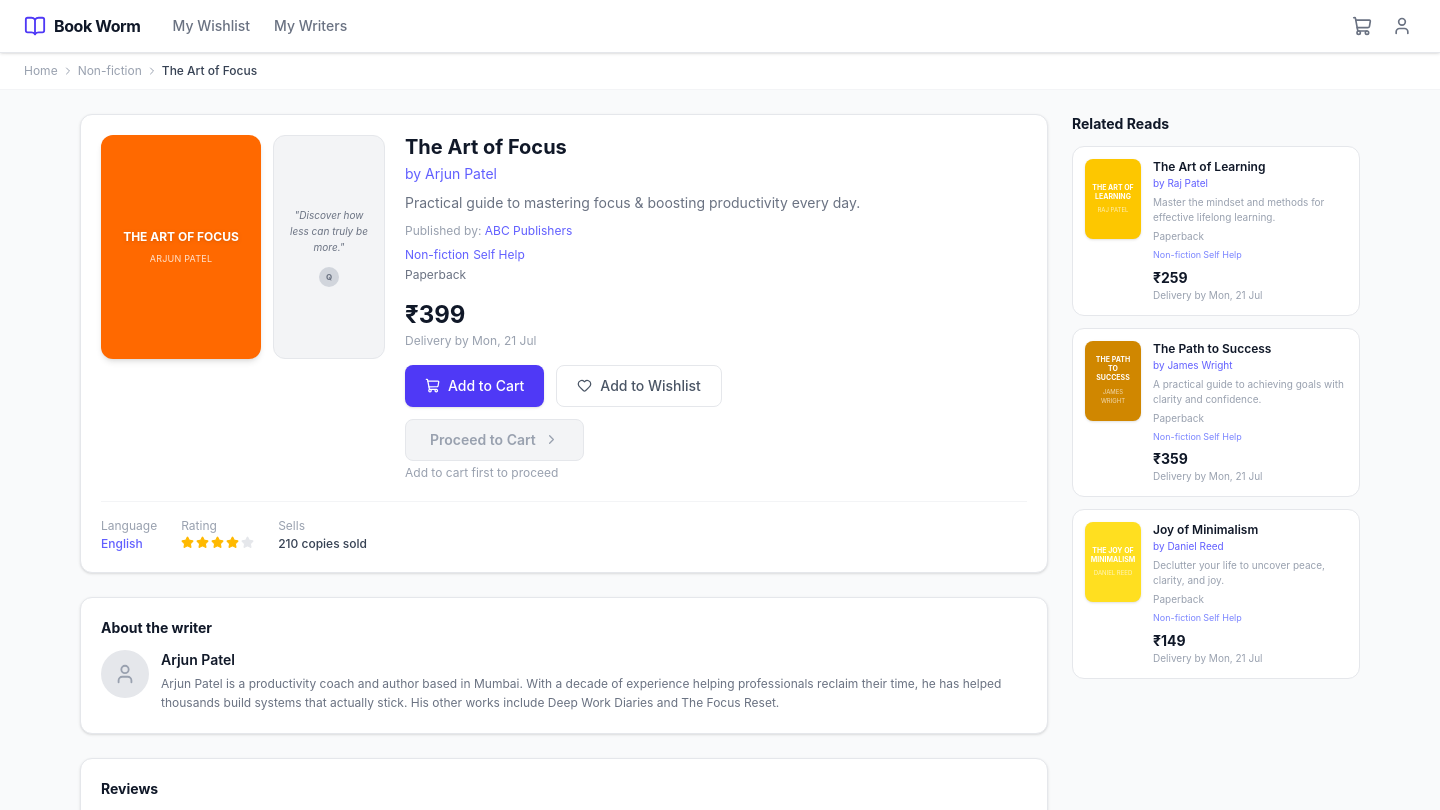
ProductDetailPage › shows validation error when attempting to proceed to cart without adding item
Click the button "Proceed to Cart".
click(494, 440)  # box [405,419,584,461]
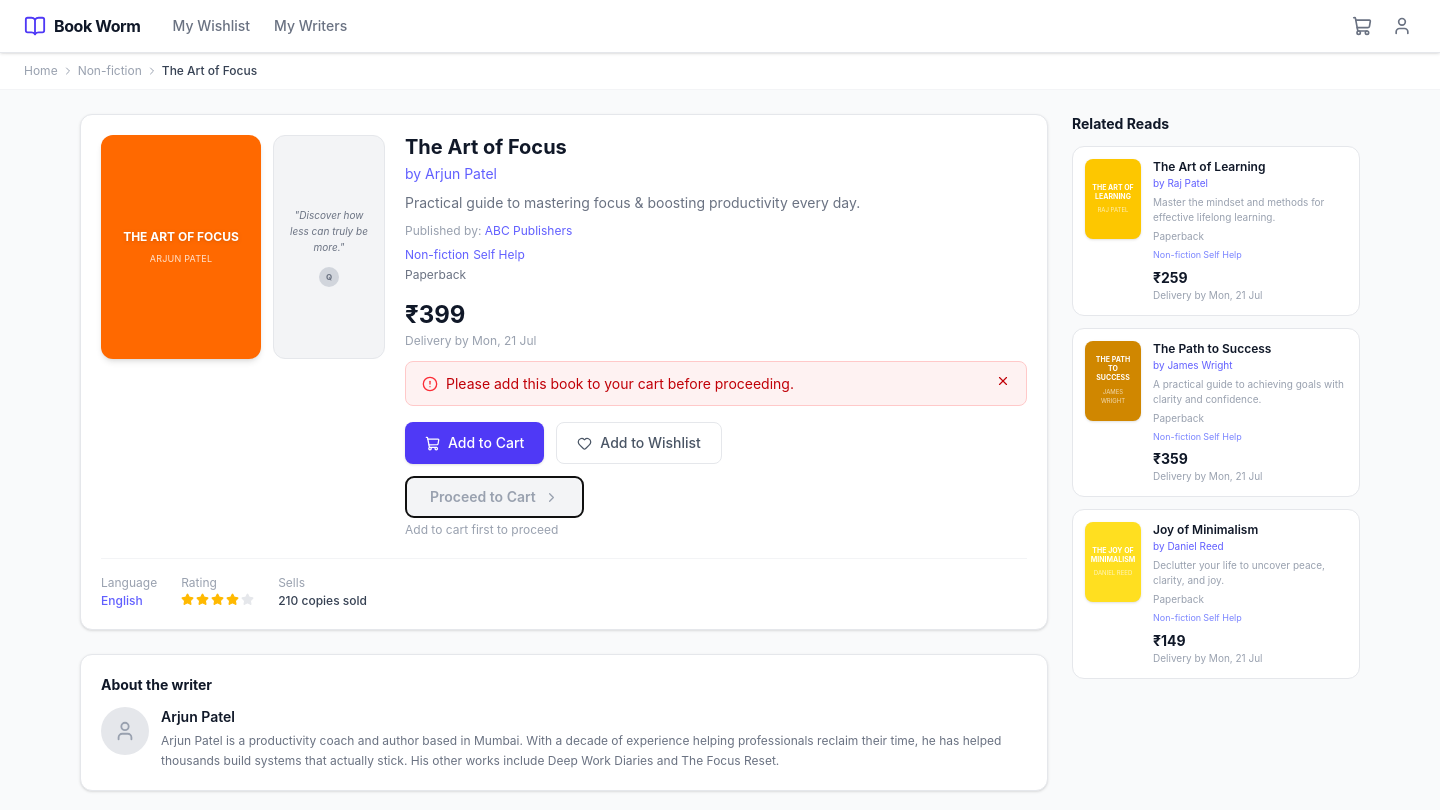
Expected: the text "Please add this book to your cart before proceeding." is shown, [446,375,794,392]
